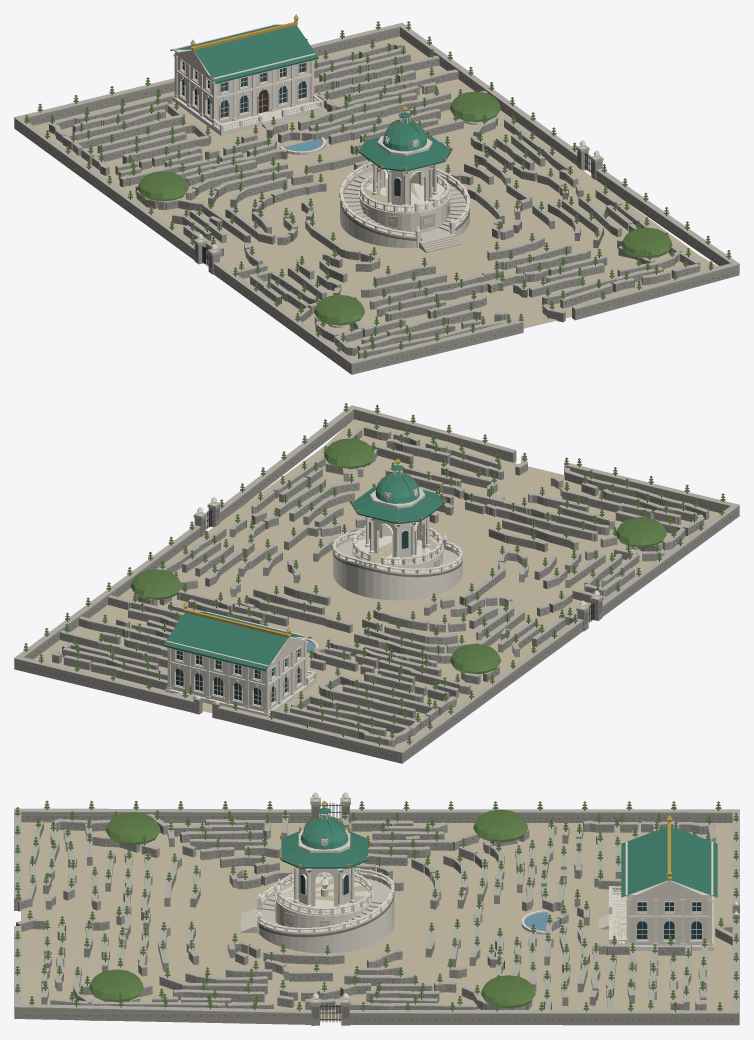
3 renders of one model, top to bottom at view 1: azimuth 30°, elevation 25°; view 2: azimuth 150°, elevation 25°; view 3: azimuth 270°, elevation 25°, orthographic. The views are drawn at different scales.
Parts seen in each view (by area): view 1: XY04 黄花阵 Huanghua Zhen; view 2: XY04 黄花阵 Huanghua Zhen; view 3: XY04 黄花阵 Huanghua Zhen.
Boxes of the visible parts, <box> form: XY04 黄花阵 Huanghua Zhen: <box>14,14,739,374</box>; XY04 黄花阵 Huanghua Zhen: <box>14,403,739,763</box>; XY04 黄花阵 Huanghua Zhen: <box>14,792,739,1025</box>.
Bounding box in the file's own units: 59.86 × 17 × 89.56.
